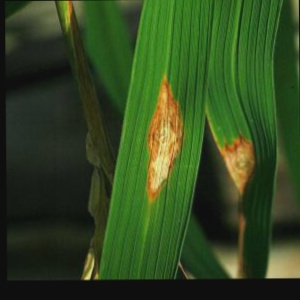Brown_Spot: (129, 67, 188, 213), (210, 134, 274, 203)
